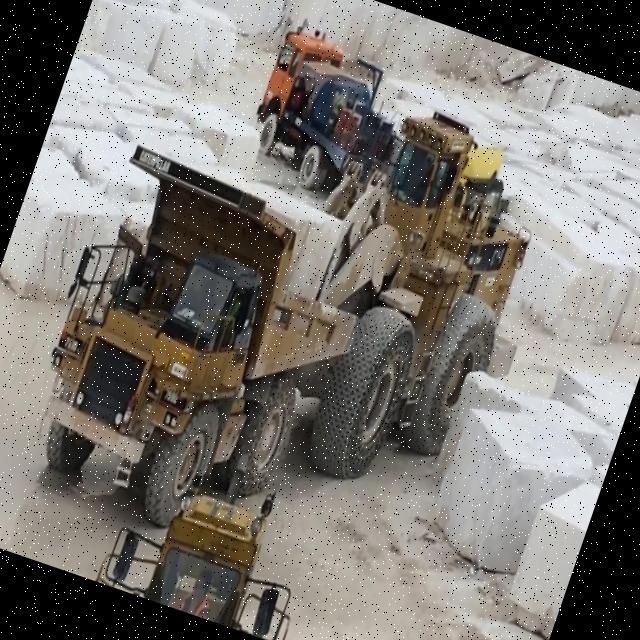Dump Truck: (6, 121, 395, 562), (238, 18, 420, 212)
Loader: (245, 83, 562, 516)
